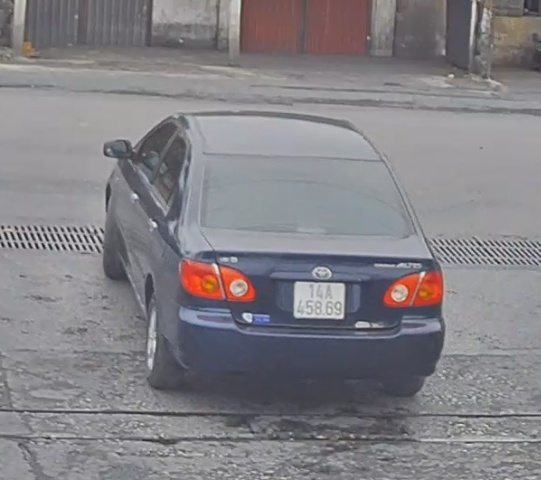vehicle plate: (293, 277, 354, 324)
